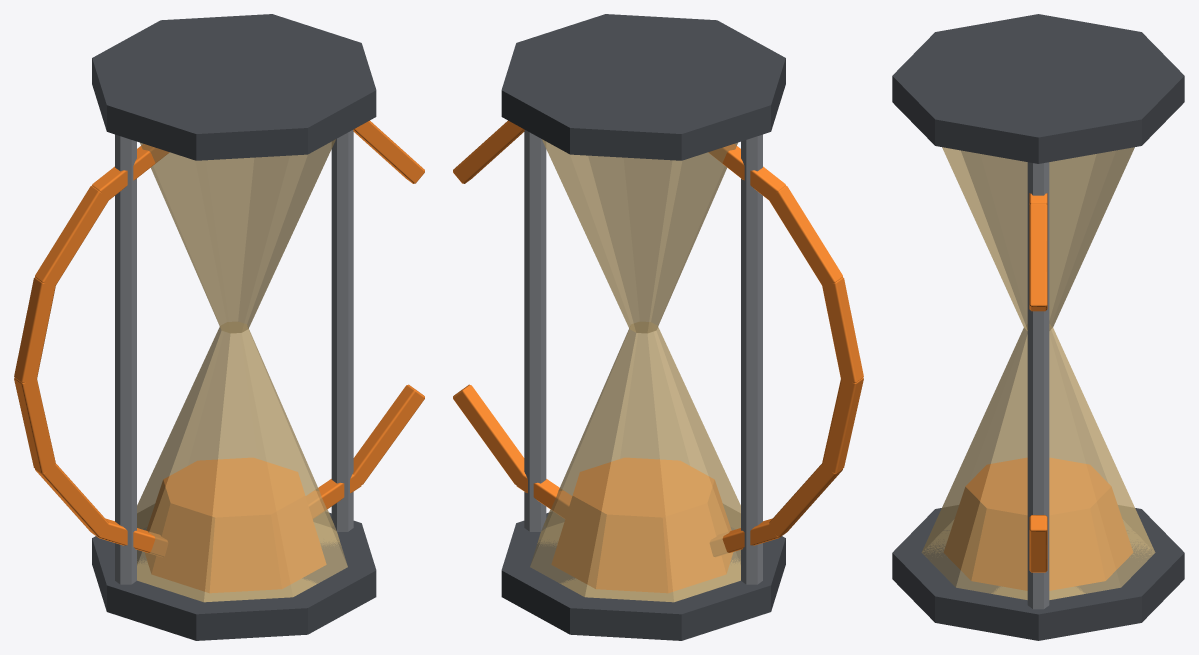
File: rewind.glb
3 renders of one model, left to right at view 1: azimuth 30°, elevation 25°; view 2: azimuth 150°, elevation 25°; view 3: azimuth 270°, elevation 25°, orthographic.
Visible parts, largest first — view 1: glass_low, top, sand_pile, glass_high, base, rewind, post_b, post_a; view 2: glass_low, top, sand_pile, glass_high, base, rewind, post_b, post_a; view 3: top, glass_low, base, sand_pile, glass_high, post_a, rewind.
Boxes of the visible parts, x1=… form: glass_low: x1=137, y1=322, x2=347, y2=602; top: x1=92, y1=14, x2=376, y2=160; sand_pile: x1=145, y1=458, x2=326, y2=592; glass_high: x1=140, y1=139, x2=335, y2=333; base: x1=92, y1=504, x2=376, y2=640; rewind: x1=14, y1=120, x2=424, y2=556; post_b: x1=115, y1=134, x2=136, y2=584; post_a: x1=331, y1=130, x2=353, y2=531; glass_low: x1=530, y1=322, x2=740, y2=602; top: x1=501, y1=14, x2=785, y2=160; sand_pile: x1=551, y1=458, x2=732, y2=592; glass_high: x1=542, y1=139, x2=737, y2=333; base: x1=501, y1=504, x2=785, y2=640; rewind: x1=453, y1=120, x2=863, y2=556; post_b: x1=741, y1=134, x2=762, y2=584; post_a: x1=524, y1=130, x2=546, y2=531; top: x1=892, y1=14, x2=1184, y2=163; glass_low: x1=921, y1=324, x2=1155, y2=599; base: x1=892, y1=505, x2=1184, y2=640; sand_pile: x1=944, y1=458, x2=1132, y2=590; glass_high: x1=942, y1=147, x2=1134, y2=330; post_a: x1=1027, y1=162, x2=1049, y2=609; rewind: x1=1029, y1=193, x2=1047, y2=572.
Bounding box in the file's own units: 0.6338 × 0.76 × 0.4.
